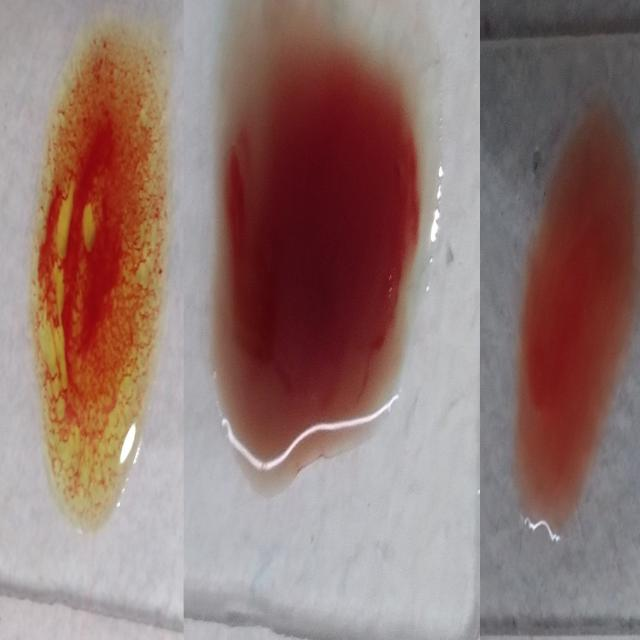B: (32, 14, 163, 526)
